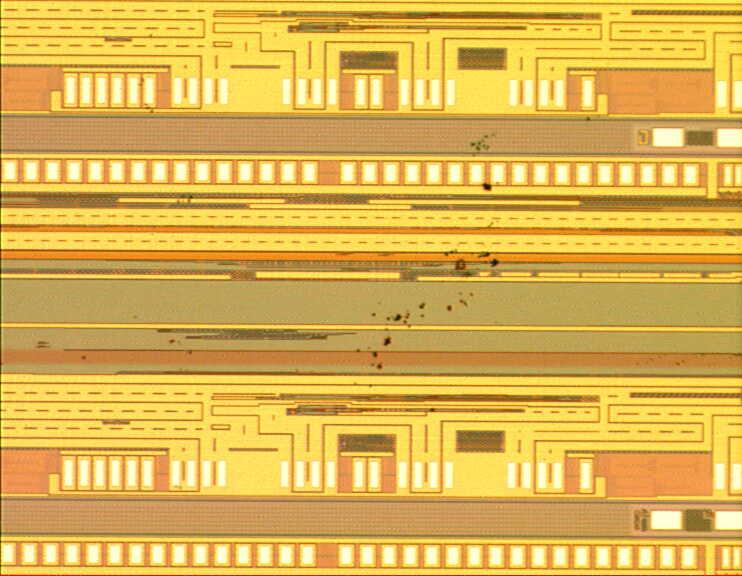PO CONTAMINATION: (79, 63, 709, 417)
